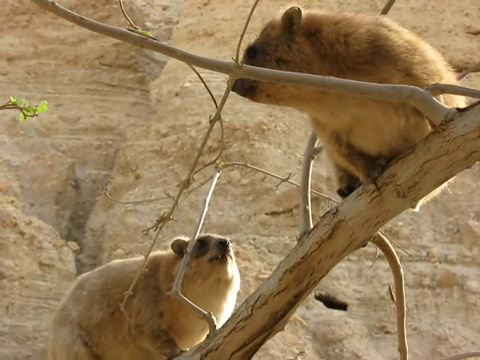Rock Hyrex: (229, 6, 468, 202), (43, 232, 241, 360)
